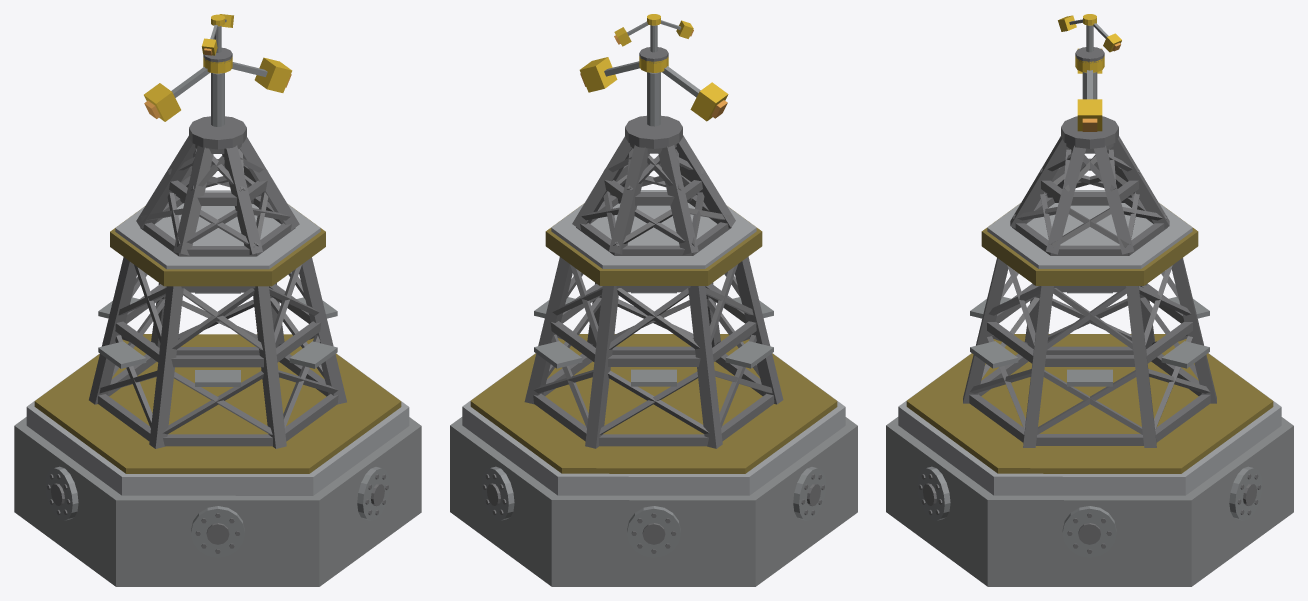
File: harvester_s2_50.glb
3 views of the same model, side by side, from view 1: azimuth 30°, elevation 25°; view 2: azimuth 150°, elevation 25°; view 3: azimuth 270°, elevation 25° (orthographic).
Parts seen in each view (by area): view 1: H_Base, H_Trim, H_Capstone, T_MidRim, T_MidPlatform, T_Low_Post_3, T_Low_Post_4, T_Low_Post_2, T_Low_Post_5, T_Up_Post_3, H_FlangeSW_disc, T_Up_Post_4 (+25 smaller); view 2: H_Base, H_Trim, H_Capstone, T_MidRim, T_MidPlatform, T_Low_Post_2, T_Low_Post_1, T_Low_Post_3, T_Low_Post_0, T_Up_Post_2, H_FlangeNW_disc, T_Up_Post_1 (+25 smaller); view 3: H_Base, H_Trim, H_Capstone, T_MidRim, T_MidPlatform, T_Low_Post_5, T_Low_Post_0, H_FlangeE_disc, T_Low_Post_1, T_Low_Post_4, T_Up_Post_0, T_Up_Post_5 (+21 smaller).
Boxes of the visible parts, x1,y1,x2,y2 form: H_Base: (14,417,421,586); H_Trim: (34,334,401,473); H_Capstone: (26,353,409,495); T_MidRim: (115,190,320,269); T_MidPlatform: (110,206,325,286); T_Low_Post_3: (149,286,183,448); T_Low_Post_4: (253,286,286,448); T_Low_Post_2: (89,257,136,404); T_Low_Post_5: (299,257,346,404); T_Up_Post_3: (173,145,213,255); H_FlangeSW_disc: (191,506,244,557); T_Up_Post_4: (222,145,262,254); H_Base: (450,417,857,586); H_Trim: (470,334,837,473); H_Capstone: (462,353,845,495); T_MidRim: (551,190,756,268); T_MidPlatform: (545,205,762,285); T_Low_Post_2: (688,286,722,448); T_Low_Post_1: (585,286,618,448); T_Low_Post_3: (735,256,783,404); T_Low_Post_0: (524,257,572,404); T_Up_Post_2: (658,145,698,255); H_FlangeNW_disc: (627,506,680,557); T_Up_Post_1: (609,145,649,254); H_Base: (886,417,1293,586); H_Trim: (906,334,1273,473); H_Capstone: (898,353,1281,495); T_MidRim: (987,190,1192,268); T_MidPlatform: (981,204,1198,285); T_Low_Post_5: (1023,286,1053,447); T_Low_Post_0: (1126,286,1156,447); H_FlangeE_disc: (1062,506,1116,557); T_Low_Post_1: (1171,258,1216,403); T_Low_Post_4: (963,258,1008,403); T_Up_Post_0: (1094,145,1134,254); T_Up_Post_5: (1045,145,1085,254).
Bounding box in the file's own units: 1.79 × 2.63 × 1.96.
